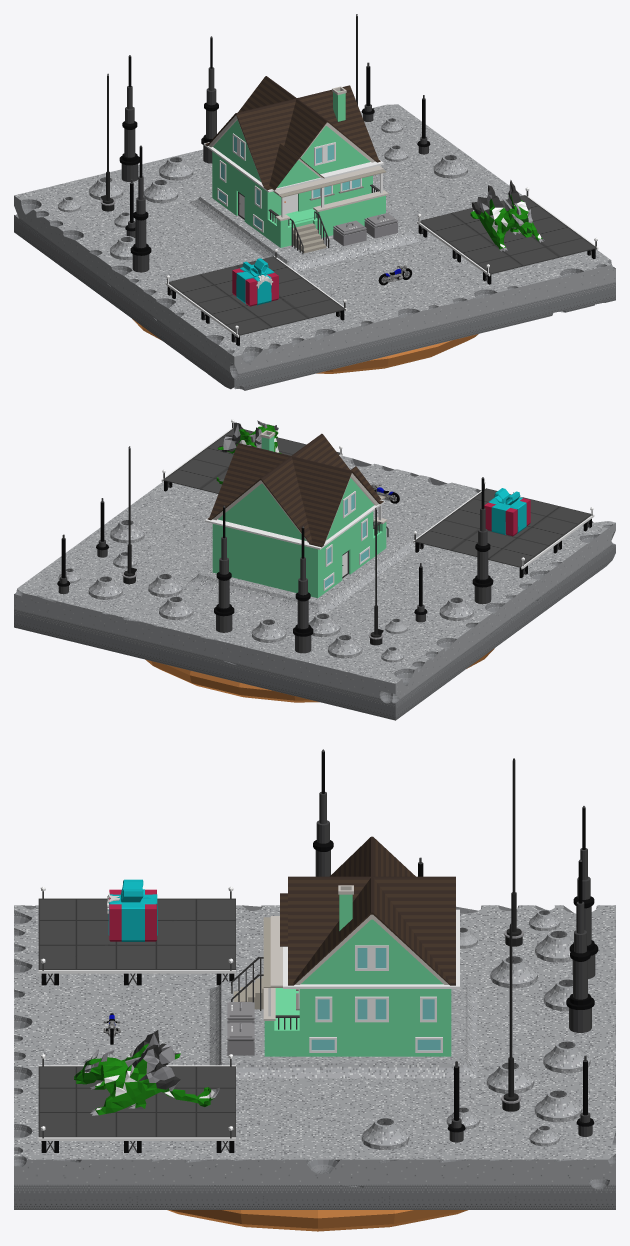
The picture shows the model from 3 angles, top to bottom: view 1: azimuth 30°, elevation 25°; view 2: azimuth 150°, elevation 25°; view 3: azimuth 270°, elevation 25°; orthographic projection. The views are drawn at different scales.
Parts seen in each view (by area): view 1: Cube.027, Cube.352, Cube.025, Cube.026, Cube.028, ANIMAL_DRAGON, OBJRANDOM_GIANT_PRESENT, UNDERGROUND_PIZZA, Cylinder.021, Cylinder.020, Cylinder.017, Cube.029 (+5 smaller); view 2: Cube.027, Cube.352, Cube.025, Cube.028, Cube.026, UNDERGROUND_PIZZA, OBJRANDOM_GIANT_PRESENT, Cylinder.021, Cylinder.020, Cylinder.017, ANIMAL_DRAGON, Cylinder.030 (+9 smaller); view 3: Cube.027, Cube.352, Cube.025, Cube.026, Cube.028, ANIMAL_DRAGON, UNDERGROUND_PIZZA, OBJRANDOM_GIANT_PRESENT, Cylinder.017, Cylinder.020, Cylinder.021, Cylinder.031 (+10 smaller).
Boxes of the visible parts, x1=… form: Cube.027: x1=14, y1=104, x2=615, y2=390; Cube.352: x1=203, y1=76, x2=388, y2=254; Cube.025: x1=165, y1=249, x2=347, y2=345; Cube.026: x1=417, y1=187, x2=598, y2=284; Cube.028: x1=190, y1=193, x2=420, y2=271; ANIMAL_DRAGON: x1=470, y1=180, x2=544, y2=251; OBJRANDOM_GIANT_PRESENT: x1=232, y1=258, x2=278, y2=306; UNDERGROUND_PIZZA: x1=132, y1=319, x2=478, y2=373; Cylinder.021: x1=130, y1=145, x2=151, y2=272; Cylinder.020: x1=119, y1=55, x2=139, y2=181; Cylinder.017: x1=201, y1=36, x2=218, y2=163; Cube.029: x1=333, y1=220, x2=366, y2=245; Cube.027: x1=14, y1=456, x2=615, y2=720; Cube.352: x1=205, y1=430, x2=388, y2=598; Cube.025: x1=413, y1=481, x2=594, y2=577; Cube.028: x1=188, y1=533, x2=415, y2=614; Cube.026: x1=161, y1=419, x2=342, y2=493; UNDERGROUND_PIZZA: x1=145, y1=648, x2=494, y2=702; OBJRANDOM_GIANT_PRESENT: x1=484, y1=488, x2=530, y2=536; Cylinder.021: x1=472, y1=477, x2=493, y2=604; Cylinder.020: x1=293, y1=526, x2=313, y2=653; Cylinder.017: x1=214, y1=505, x2=234, y2=632; ANIMAL_DRAGON: x1=216, y1=420, x2=281, y2=484; Cylinder.030: x1=148, y1=573, x2=182, y2=597; Cube.027: x1=14, y1=905, x2=615, y2=1209; Cube.352: x1=231, y1=836, x2=459, y2=1056; Cube.025: x1=38, y1=886, x2=235, y2=985; Cube.026: x1=38, y1=1054, x2=235, y2=1152; Cube.028: x1=209, y1=981, x2=477, y2=1078; ANIMAL_DRAGON: x1=74, y1=1030, x2=219, y2=1115; UNDERGROUND_PIZZA: x1=167, y1=1210, x2=467, y2=1231; OBJRANDOM_GIANT_PRESENT: x1=107, y1=879, x2=157, y2=941; Cylinder.017: x1=566, y1=859, x2=594, y2=1032; Cylinder.020: x1=569, y1=806, x2=598, y2=978; Cylinder.021: x1=313, y1=749, x2=333, y2=876; Cylinder.031: x1=534, y1=1089, x2=582, y2=1122.
Size of the model in its own units: 4000 by 2011 by 4000.
Materials: 38 (4 with a texture image).
